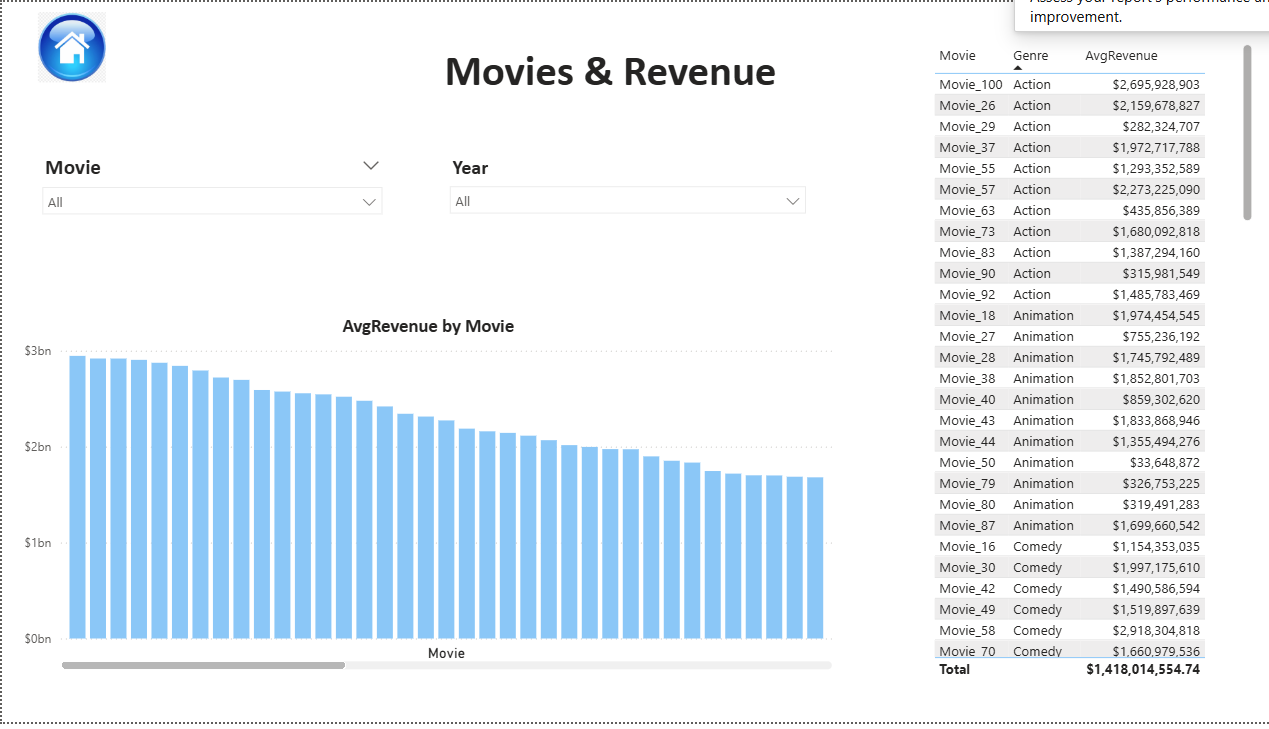

What the dashboard file says about the page in this screenshot:
{"tool":"powerbi","page":{"name":"Movies & Revenues","canvas":[1280,720],"ordinal":2},"visuals":[{"type":"columnChart","fields":{"Category":["Sheet1.Movie"],"Y":["Sheet1.AvgRevenue"]},"box":[17.5,312.5,817.5,360],"z":0},{"type":"tableEx","fields":{"Values":["Sheet1.Movie","Sheet1.Genre","Sheet1.AvgRevenue"]},"box":[926.2,37.5,328.8,643.8],"z":1000},{"type":"textbox","box":[437.5,37.5,457.5,83.8],"z":2000},{"type":"image","box":[17.5,10,105,70],"z":3000},{"type":"slicer","fields":{"Values":["Sheet1.Movie"]},"box":[30,147.5,360,100],"z":4000},{"type":"slicer","fields":{"Values":["Sheet1.Year"]},"box":[437.5,147.5,376.2,100],"z":5000}]}

Visuals, with their boxes in screenshot pixels (x1, y1, x2, y2), scaled from the page's 1280x720 canvas onto the 1269x729 screenshot:
columnChart - Sheet1.Movie x Sheet1.AvgRevenue: crop(17, 316, 828, 681)
tableEx - Sheet1.Movie x Sheet1.Genre: crop(918, 38, 1244, 690)
textbox: crop(434, 38, 887, 123)
image: crop(17, 10, 121, 81)
slicer - Sheet1.Movie: crop(30, 149, 387, 251)
slicer - Sheet1.Year: crop(434, 149, 807, 251)
